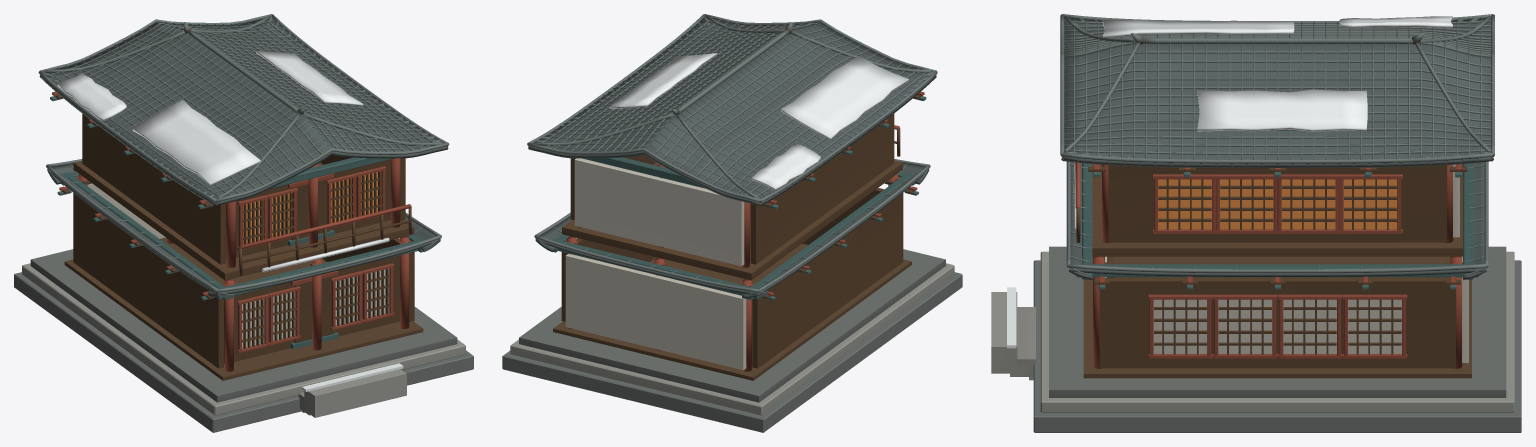
File: writing.glb
The picture shows the model from 3 angles, left to right: view 1: azimuth 30°, elevation 25°; view 2: azimuth 150°, elevation 25°; view 3: azimuth 270°, elevation 25°; orthographic projection. The views are drawn at different scales.
Parts seen in each view (by area): view 1: writing_building, snow_writing_winter; view 2: writing_building, snow_writing_winter; view 3: writing_building, snow_writing_winter.
Boxes of the visible parts, box(x1,y1,x2,y2) form: writing_building: box(14, 14, 473, 432); snow_writing_winter: box(57, 50, 403, 391); writing_building: box(502, 14, 962, 432); snow_writing_winter: box(609, 53, 908, 190); writing_building: box(991, 14, 1521, 432); snow_writing_winter: box(1007, 16, 1452, 348).
Size of the model in its own units: 6.27 by 6.03 by 8.99.
